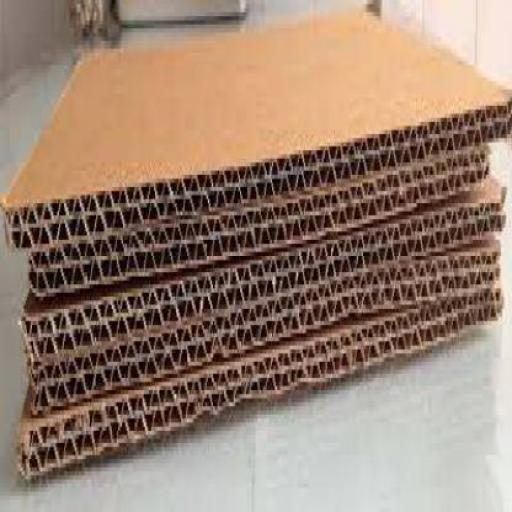cardboard: (0, 20, 511, 480), (0, 8, 511, 257)
